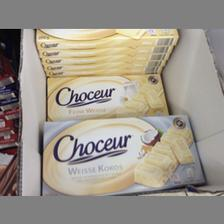Schokolade: (40, 113, 208, 195), (44, 72, 172, 120)
